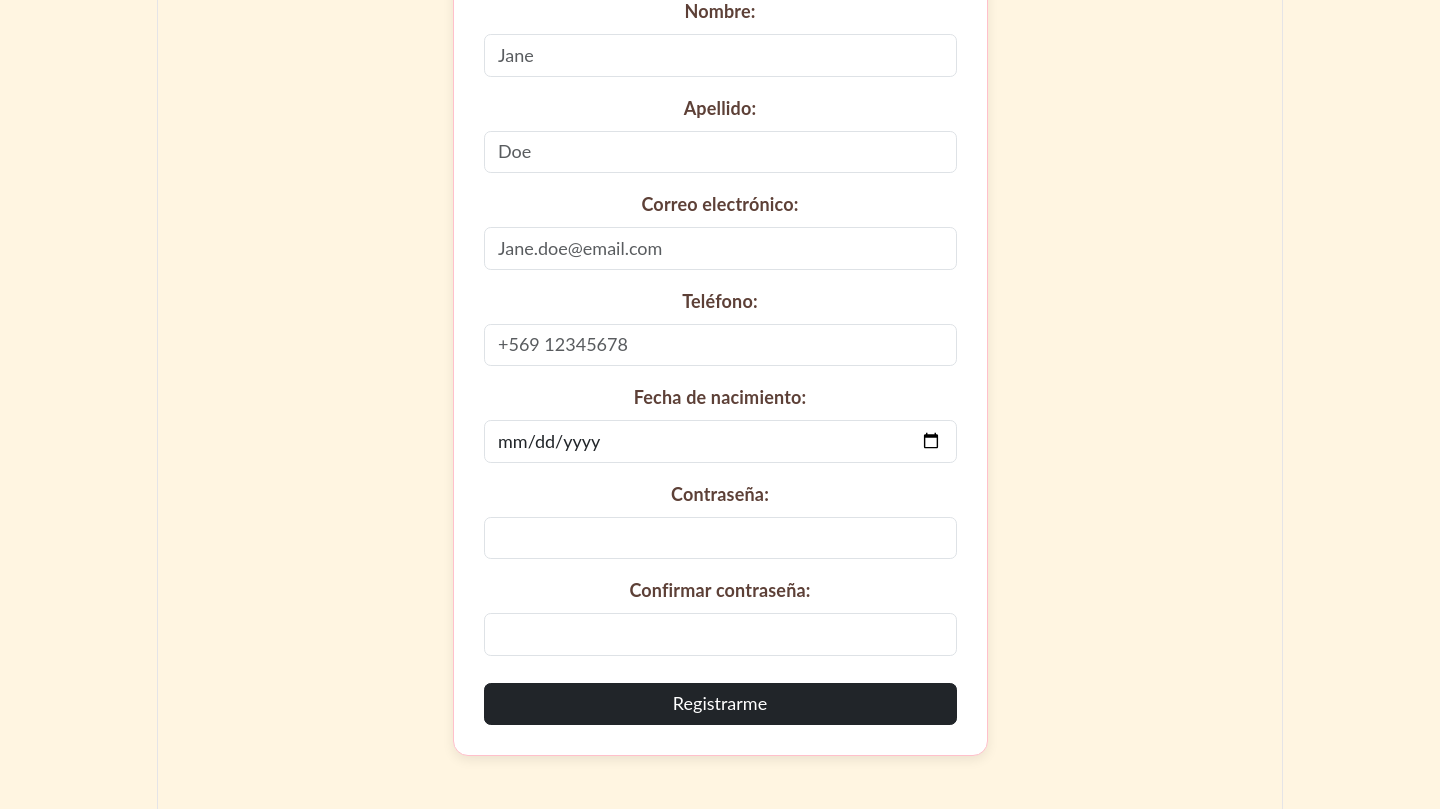
Test case: Formulario de registro › rechaza contraseñas de menos de seis caracteres
(page scrolled)
Type "12345" into the password field labelled "Contraseña:" at (720, 538), box x1=484 y1=517 x2=956 y2=559
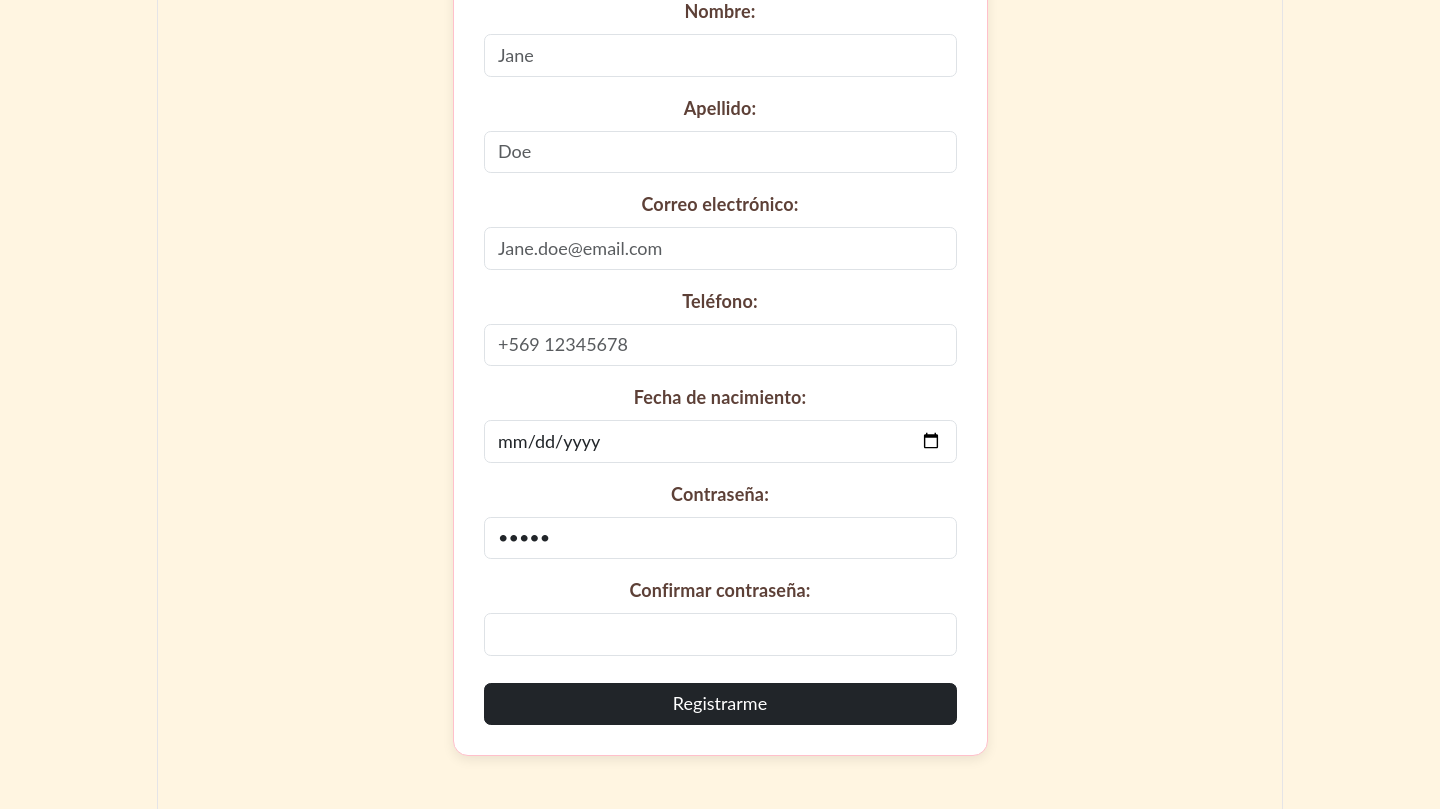
Click the button "Registrarme" at (720, 704), box x1=484 y1=683 x2=956 y2=725
(page scrolled)
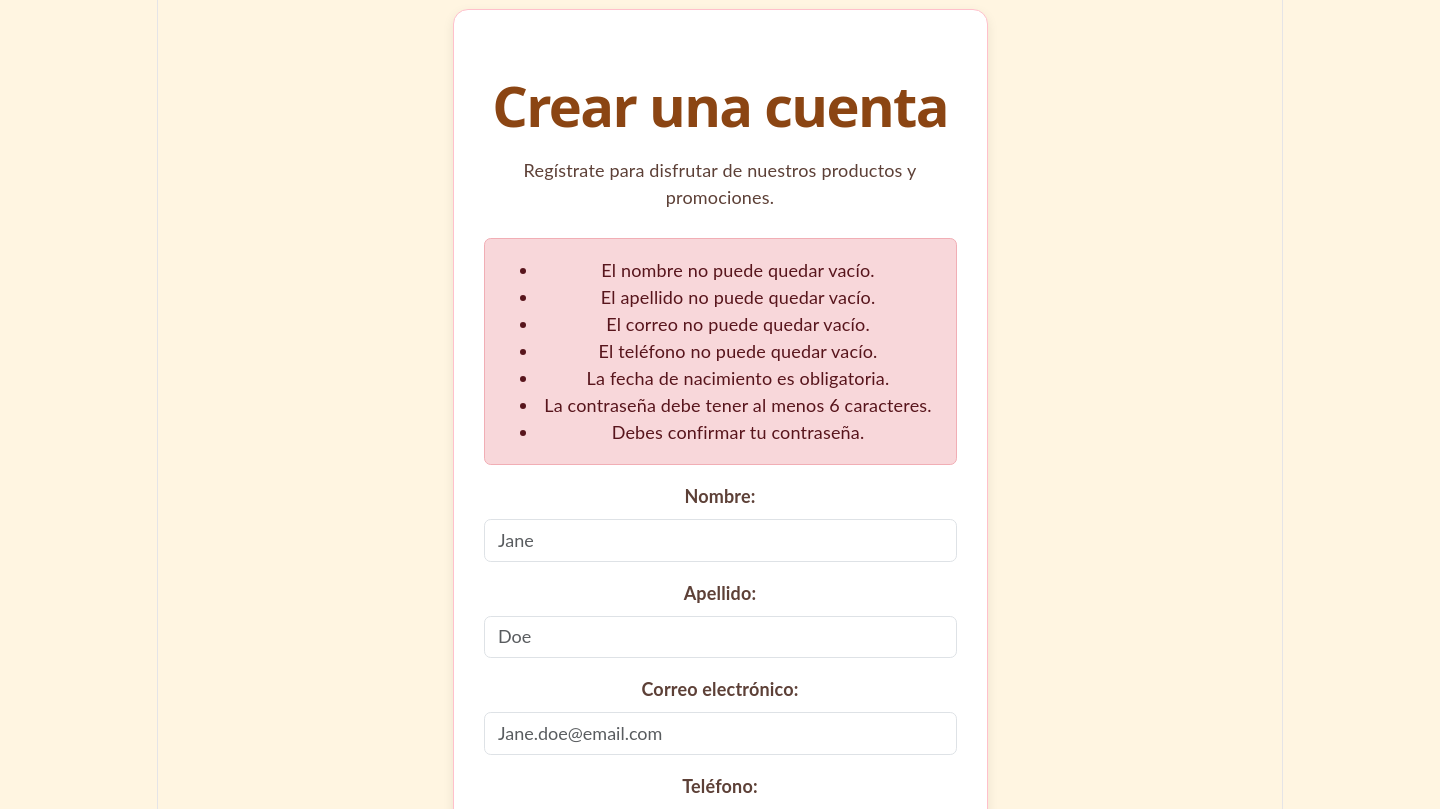
Expected: the list item "La contraseña debe tener al menos 6 caracteres." is shown, x1=538 y1=392 x2=938 y2=419
